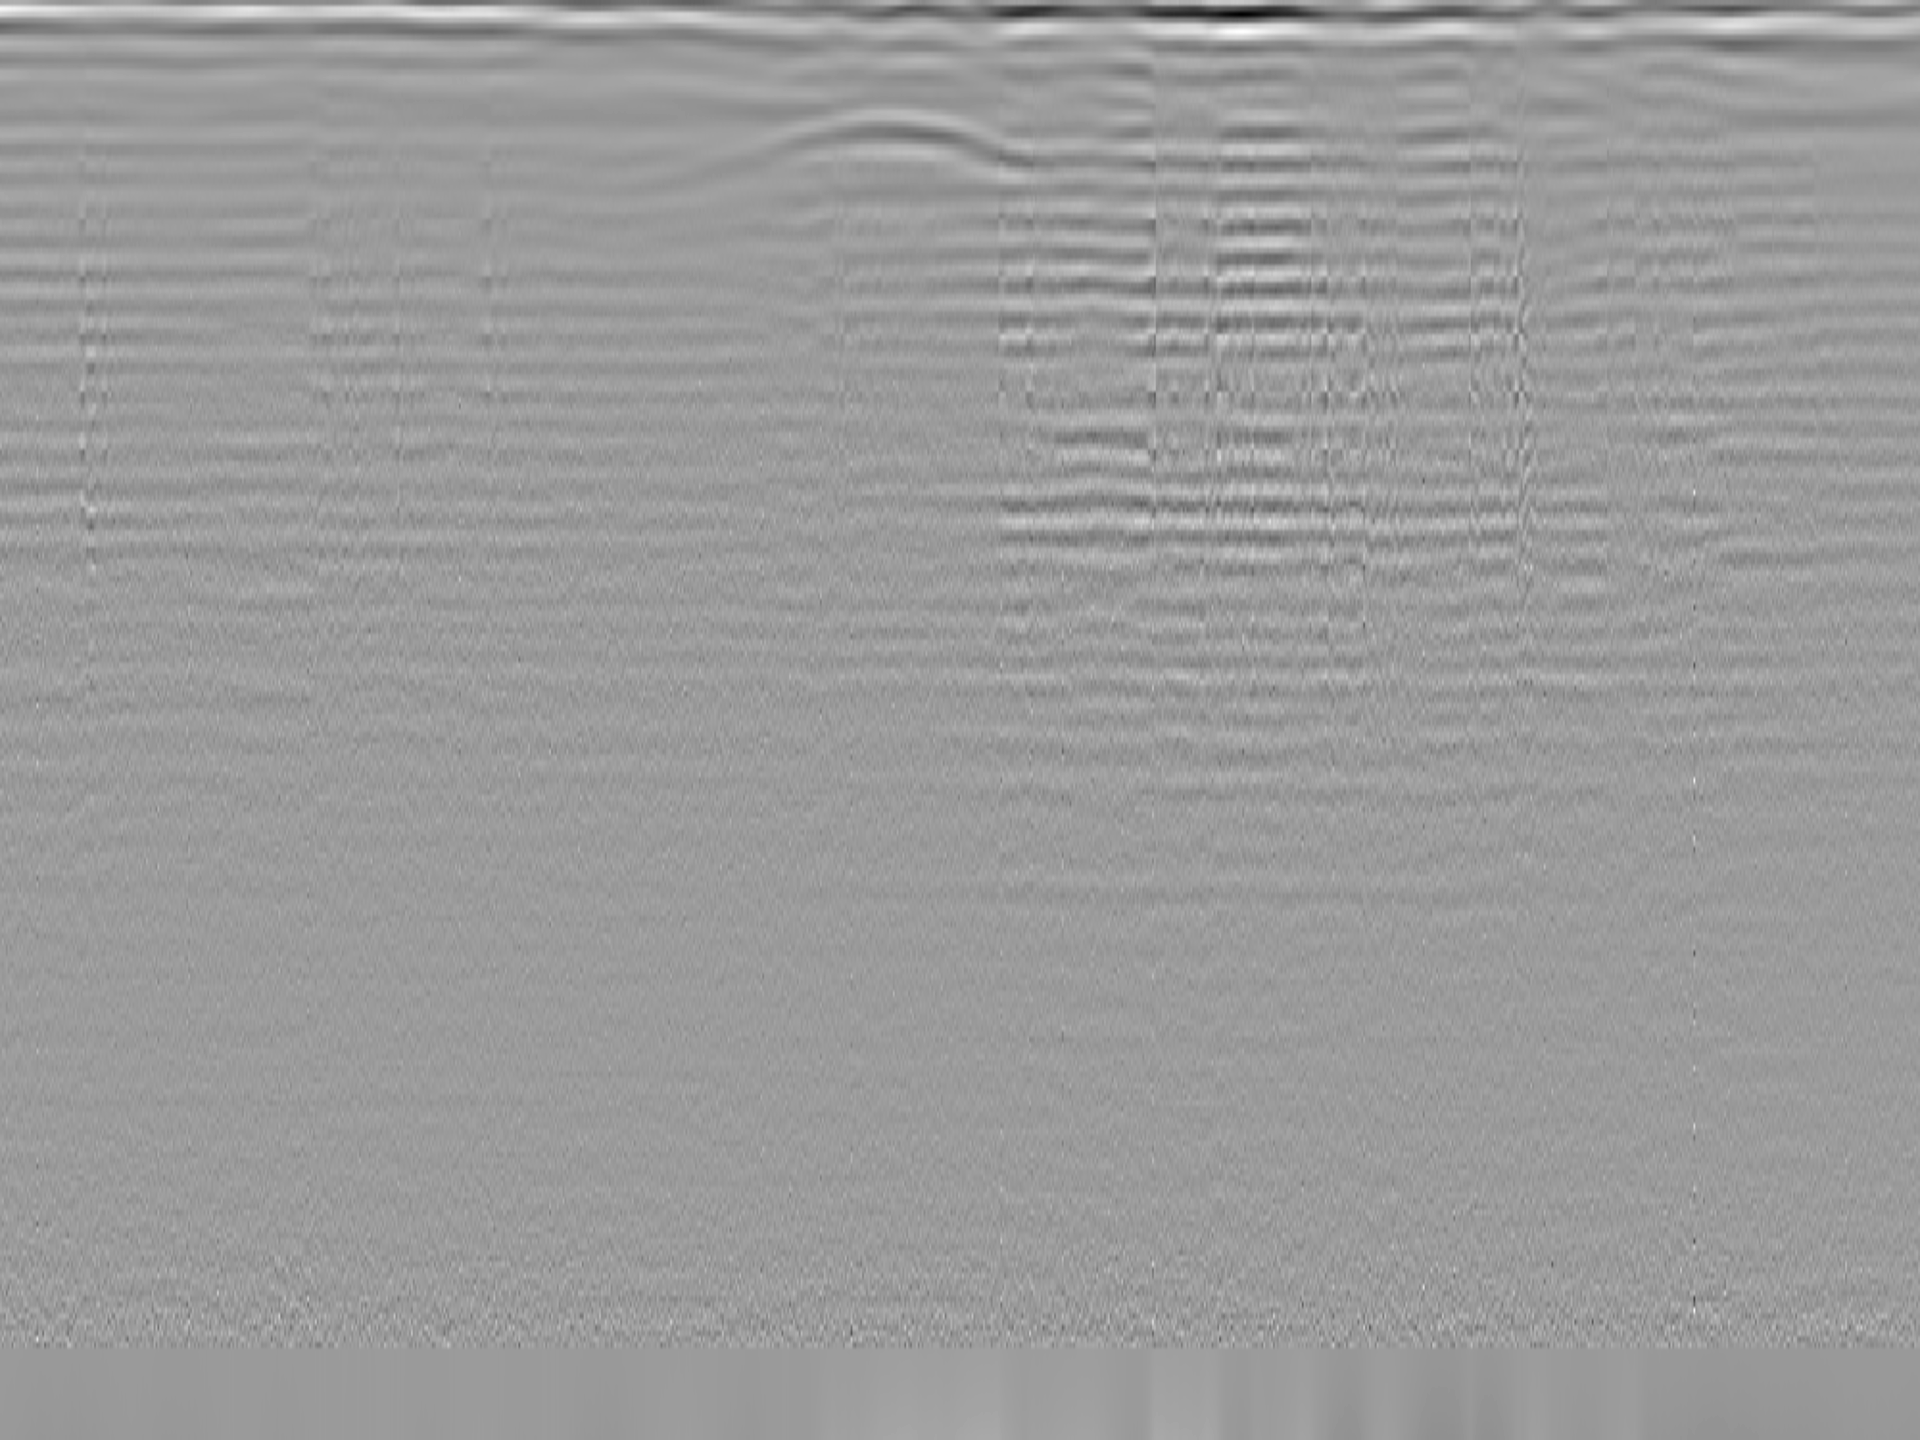Tunnel: (683, 109, 1064, 178)
